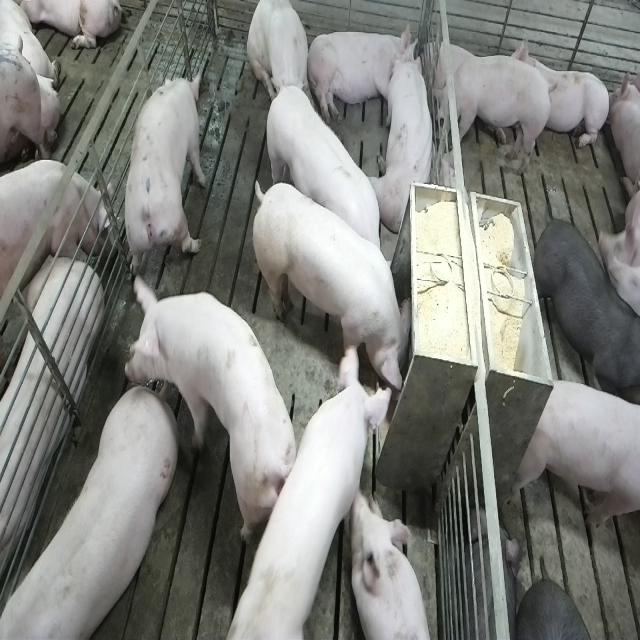Feeding: (209, 345, 388, 640), (254, 174, 419, 405)
Lateral_lying: (0, 215, 103, 595), (306, 20, 417, 127)
Sitting: (247, 1, 311, 116)
Standing: (126, 282, 302, 548), (0, 386, 174, 640), (262, 80, 389, 278), (511, 376, 639, 538), (533, 220, 638, 410), (123, 68, 206, 282), (427, 50, 554, 182), (0, 160, 107, 306)
Sternal_lying: (352, 489, 434, 640), (375, 43, 438, 234), (516, 30, 610, 154)
